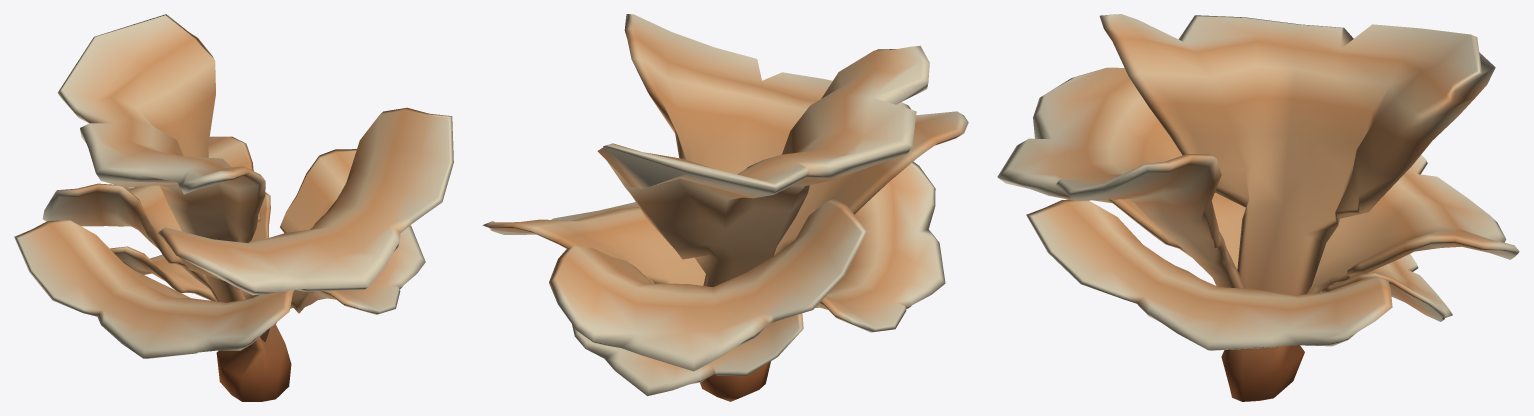
Rendered from plants-mushrooms-oyster-mushroom_v2.glb.
3 views of the same model, side by side, from view 1: azimuth 30°, elevation 25°; view 2: azimuth 150°, elevation 25°; view 3: azimuth 270°, elevation 25° (orthographic). The views are drawn at different scales.
Parts seen in each view (by area): view 1: Oyster Mushroom_v2; view 2: Oyster Mushroom_v2; view 3: Oyster Mushroom_v2.
Boxes of the visible parts, left/top/right/bottom form: Oyster Mushroom_v2: left=14, top=14, right=453, bottom=401; Oyster Mushroom_v2: left=482, top=14, right=968, bottom=401; Oyster Mushroom_v2: left=997, top=14, right=1519, bottom=401.
Bounding box in the file's own units: 0.1313 × 0.1068 × 0.15.
